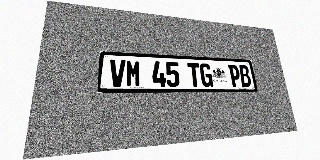4: (152, 61, 166, 87)
5: (166, 62, 180, 87)
B: (238, 65, 252, 87)
G: (199, 63, 213, 87)
M: (126, 60, 141, 87)
P: (228, 64, 242, 87)
T: (187, 63, 201, 87)
V: (109, 59, 125, 87)
